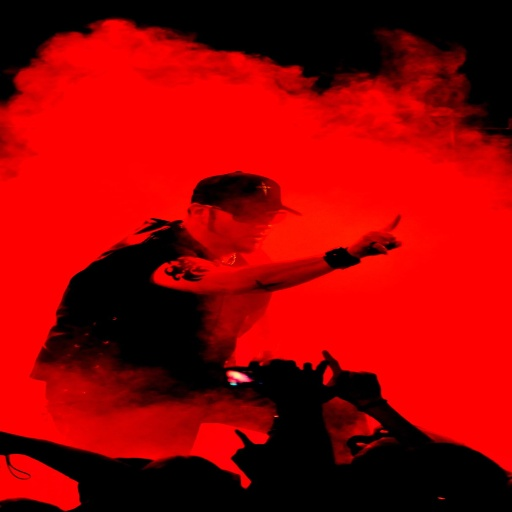hand: (220, 357, 298, 413), (320, 348, 381, 408), (286, 359, 340, 404), (349, 223, 403, 265), (227, 430, 266, 480), (0, 432, 17, 457)
